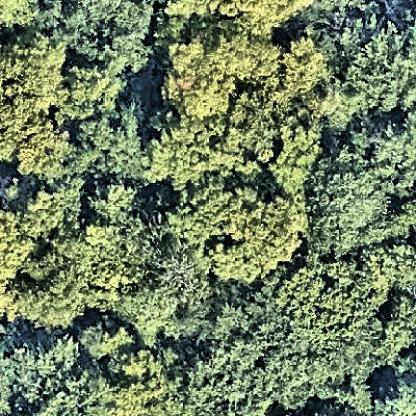tree-top: (299, 117, 416, 253), (187, 305, 314, 416), (1, 204, 121, 321), (177, 184, 299, 281), (165, 22, 283, 118), (1, 29, 69, 178), (280, 247, 385, 340), (148, 109, 266, 189), (1, 325, 103, 416), (23, 1, 158, 65), (62, 96, 158, 185), (328, 14, 416, 106), (131, 232, 208, 321), (160, 1, 324, 37), (102, 356, 174, 416), (77, 310, 131, 366)
